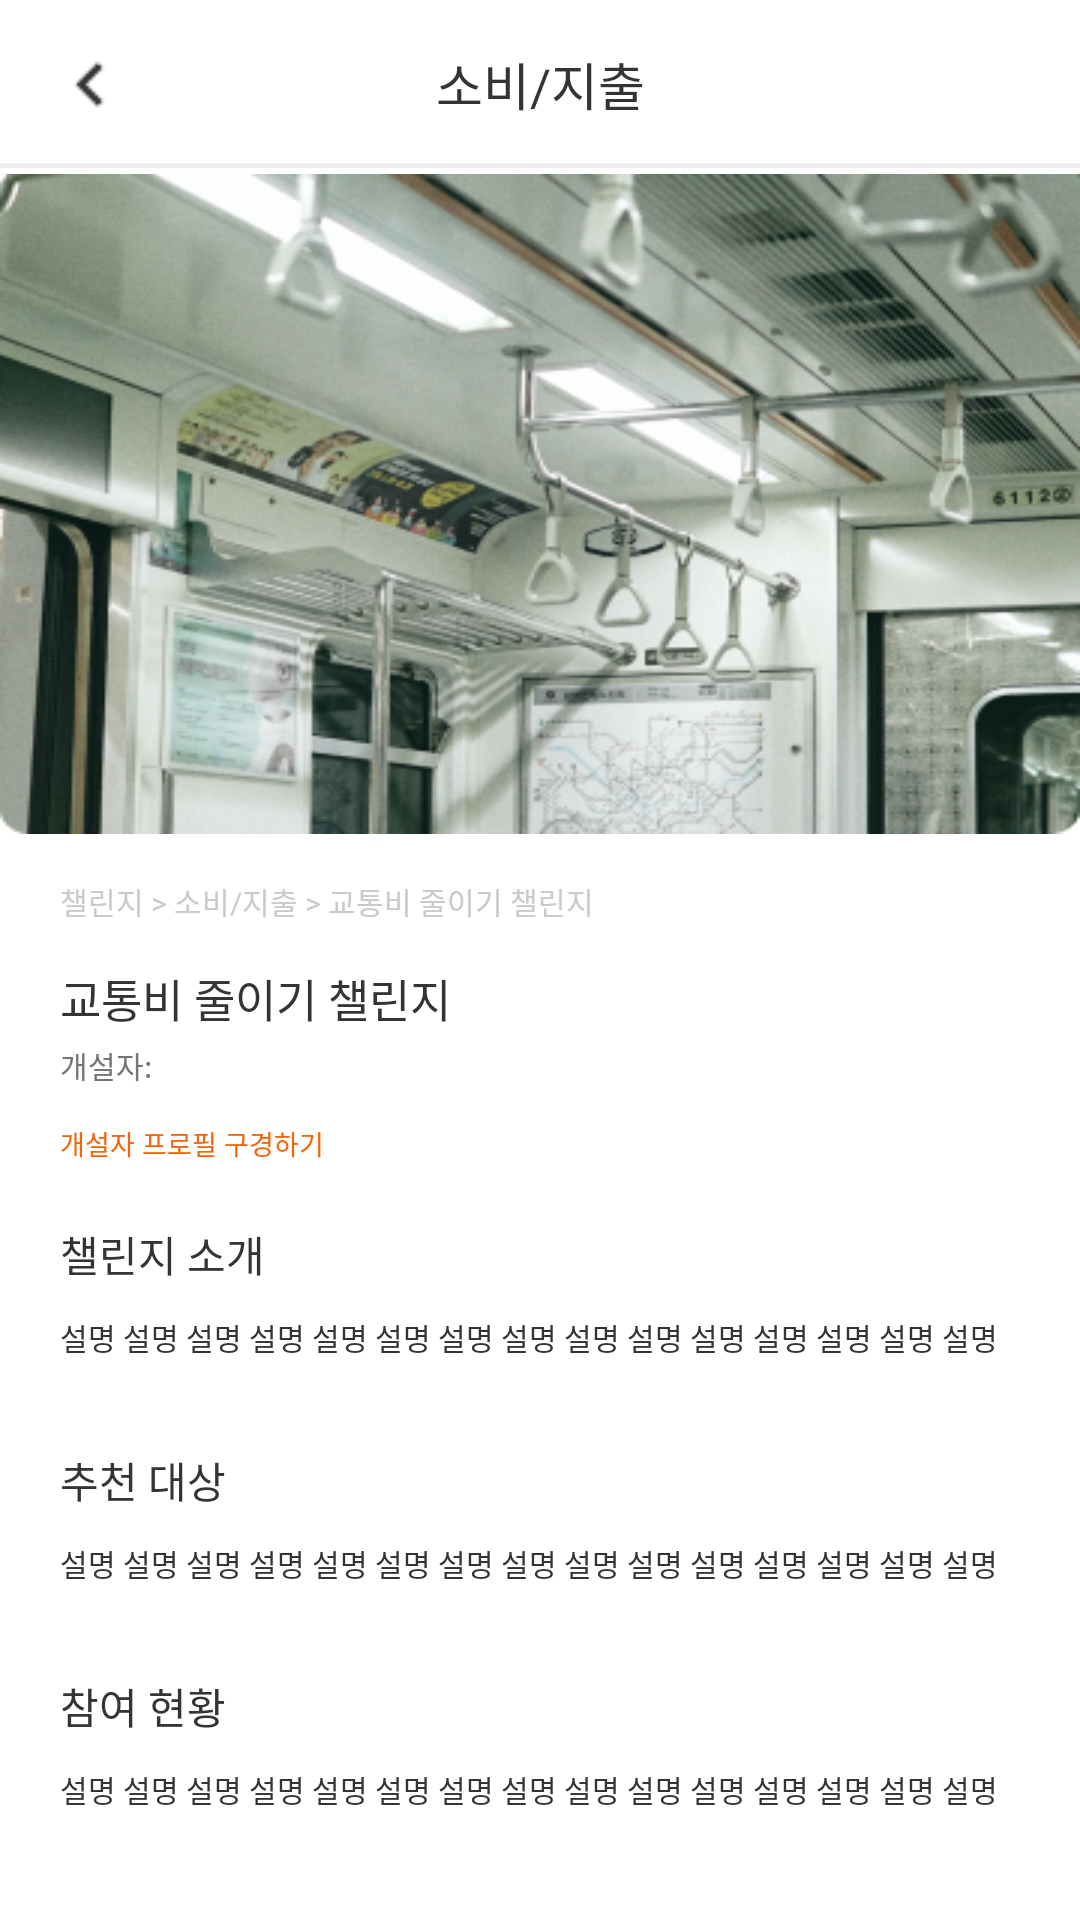

Icon bounding boxes for this 1080px×1920px phone screenshot, format detection(x1, y1, x2, y2):
back: detection(75, 61, 104, 108)
